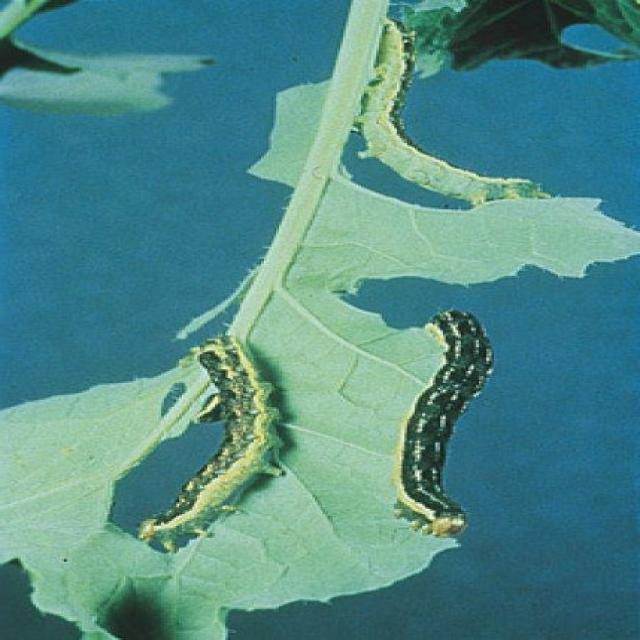army worm: (358, 18, 555, 214), (131, 331, 298, 557), (402, 307, 498, 538)
